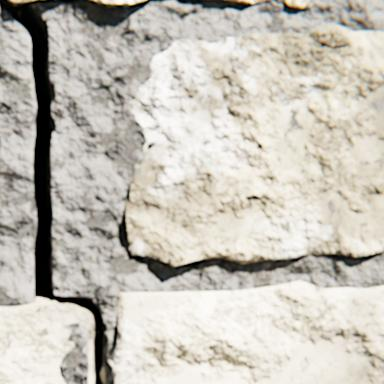brick: (124, 24, 383, 267), (108, 281, 383, 383), (0, 301, 89, 383), (87, 0, 148, 7), (275, 0, 308, 9), (223, 0, 270, 6), (4, 0, 37, 5), (197, 0, 219, 1)
crack: (0, 0, 105, 383)
